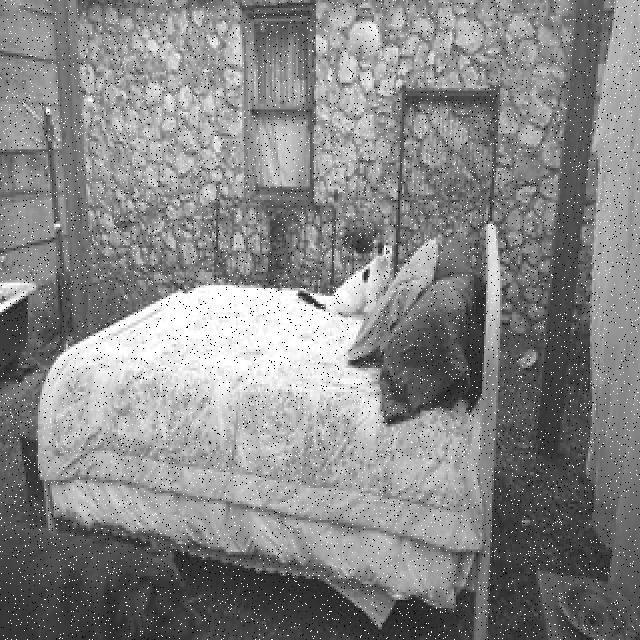bed: (38, 218, 513, 612)
